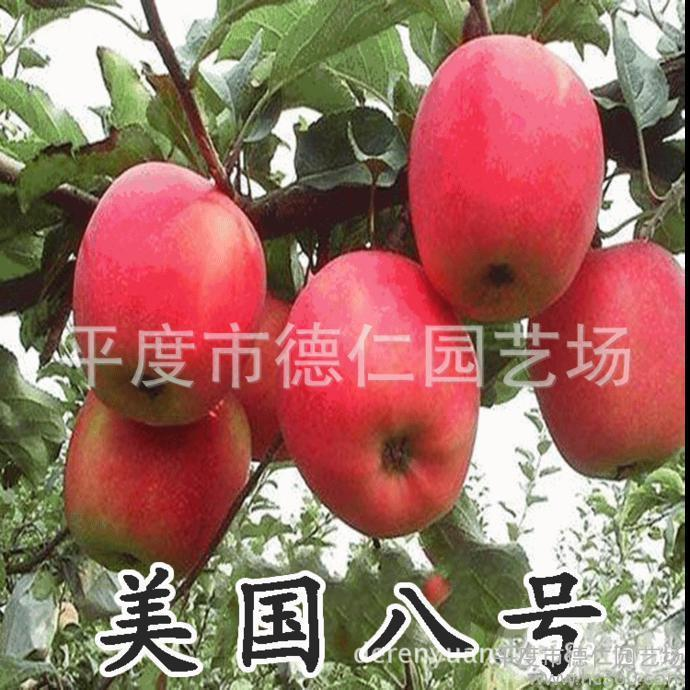apple: (405, 34, 605, 325), (282, 250, 483, 539), (67, 162, 268, 426), (516, 240, 686, 477), (60, 392, 257, 586)
